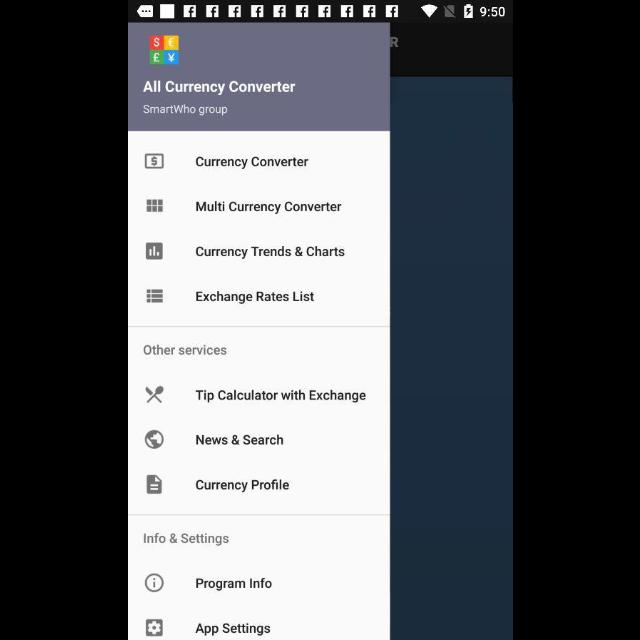icon: (144, 574, 164, 592), (146, 474, 162, 494), (144, 154, 164, 170), (145, 243, 163, 260), (145, 620, 163, 636), (146, 289, 162, 303), (146, 199, 162, 213)
image: (149, 36, 179, 66), (144, 430, 164, 450), (144, 386, 164, 404)
panel: (128, 24, 388, 640)
text: (142, 80, 296, 96), (196, 246, 344, 260), (194, 390, 366, 402), (195, 201, 342, 215), (196, 291, 314, 305), (194, 156, 308, 170), (195, 479, 289, 493), (143, 532, 229, 546), (196, 577, 272, 591), (195, 435, 283, 447), (196, 622, 270, 636), (142, 105, 228, 117), (143, 344, 227, 356)
uppertaskbar: (128, 1, 512, 23)
